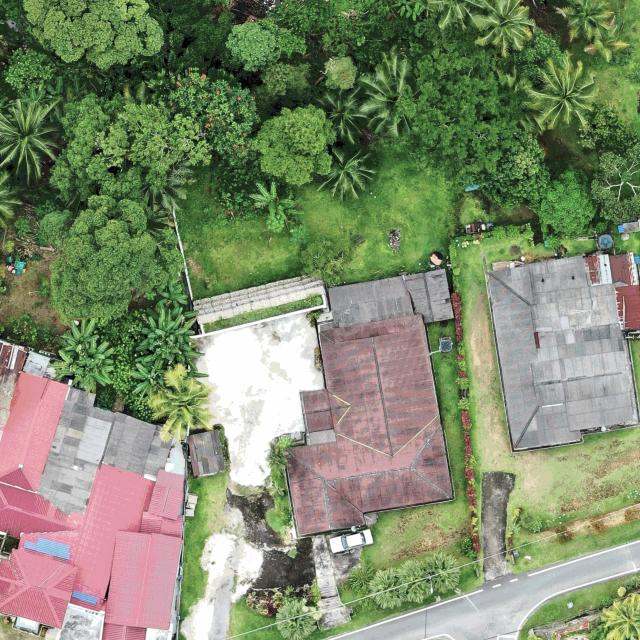Tree: (54, 94, 212, 212), (38, 192, 169, 318), (405, 39, 526, 171), (20, 0, 166, 68), (167, 65, 261, 166), (250, 103, 333, 189), (475, 131, 550, 211), (525, 54, 599, 130), (357, 52, 420, 141), (0, 95, 62, 184), (150, 364, 214, 442), (590, 128, 640, 225), (47, 332, 115, 395), (538, 168, 596, 238), (101, 308, 148, 394), (134, 301, 198, 361), (471, 0, 537, 58), (137, 150, 197, 213), (314, 146, 377, 202), (316, 86, 370, 146), (575, 100, 640, 148), (248, 178, 299, 232), (555, 0, 613, 42), (298, 239, 345, 288), (418, 0, 486, 33), (599, 591, 640, 640), (587, 20, 630, 65), (274, 600, 318, 640), (394, 559, 434, 603), (423, 551, 462, 592), (129, 359, 166, 400), (368, 566, 403, 609), (322, 56, 359, 92), (62, 318, 100, 352), (157, 281, 188, 307), (181, 0, 249, 9)
